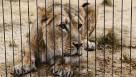lion: (17, 2, 126, 76)
